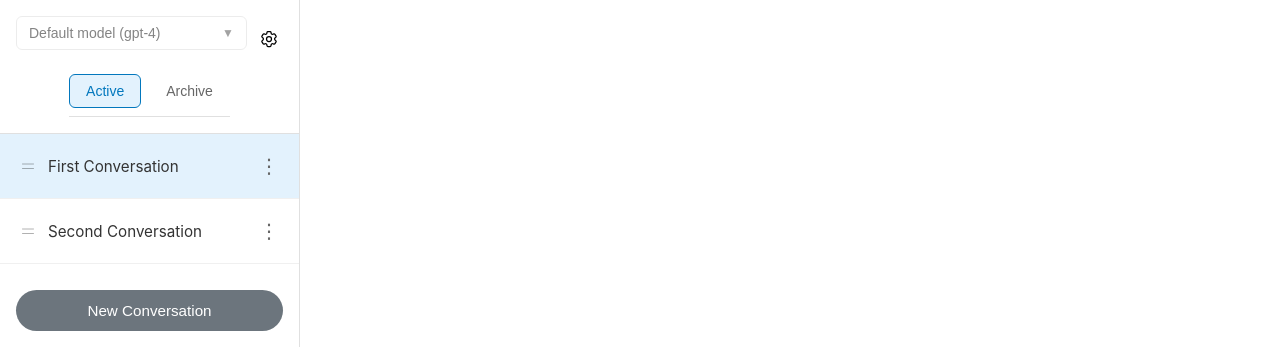
Test: ConversationList › hides dropdown menu when clicking outside
This screenshot has width=1280, height=364.
Step 1. Click the button with class "menu-button" next to "First Conversation" → x=269, y=166, box [255,150,283,182]
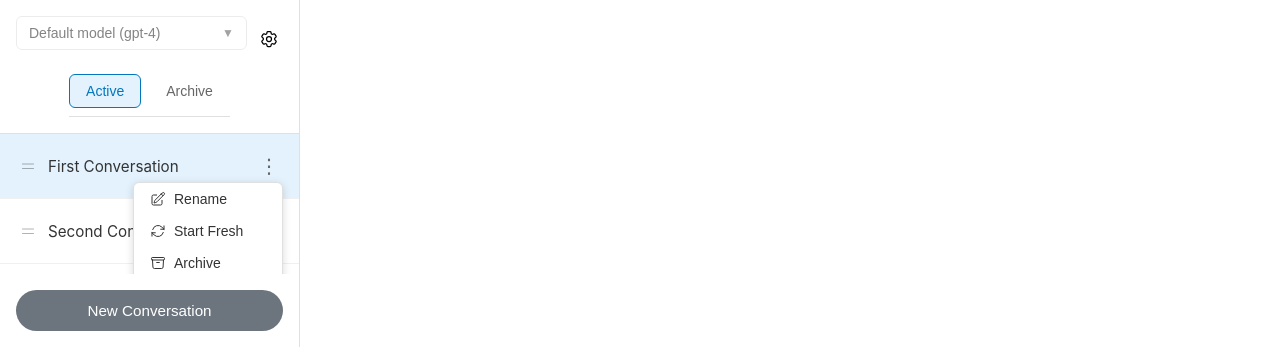
Result: the button "Rename" is shown at [134,183,282,215]
// Click outside
Step 2. Press the mouse on the element that starts with "Default model (gpt-4)" → x=640, y=174, box [0,0,1279,347]
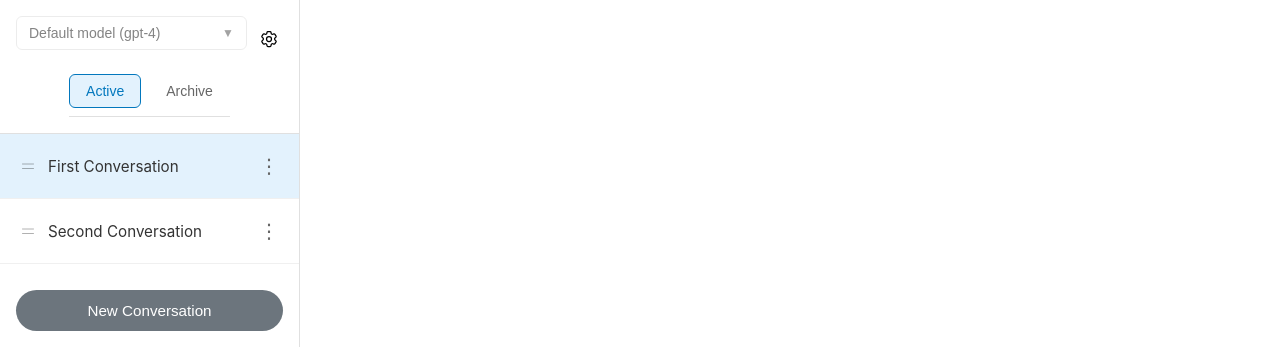
Result: the button "Rename" is gone
